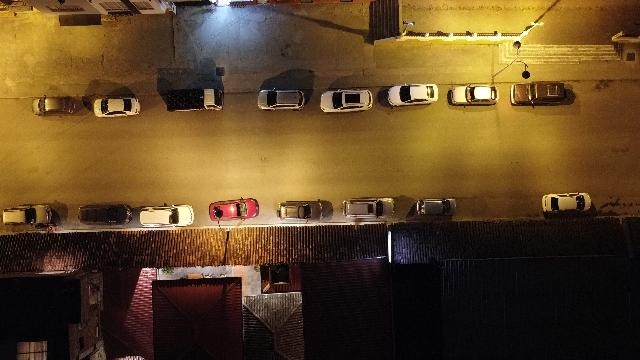Vehiculo: (166, 88, 224, 112), (510, 82, 566, 106), (209, 197, 259, 221), (276, 200, 332, 221), (320, 90, 372, 112), (140, 205, 194, 226), (388, 84, 438, 106), (342, 198, 394, 219), (79, 204, 131, 225), (93, 96, 139, 118), (449, 86, 498, 106), (2, 205, 51, 225), (542, 192, 590, 212), (258, 90, 304, 110), (32, 96, 74, 116), (416, 199, 456, 220)
